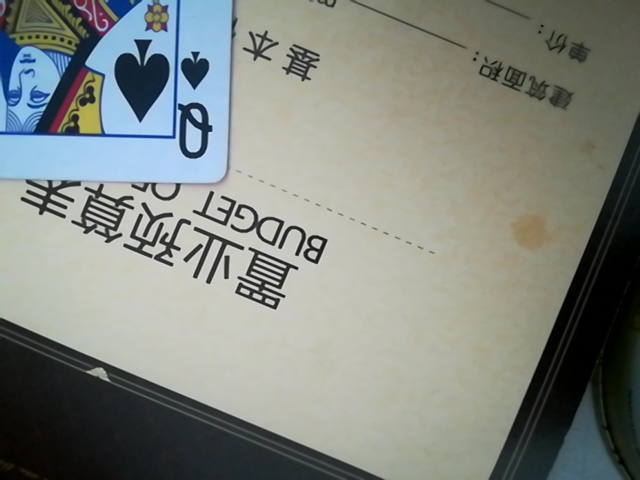ht q: (1, 0, 240, 187)
